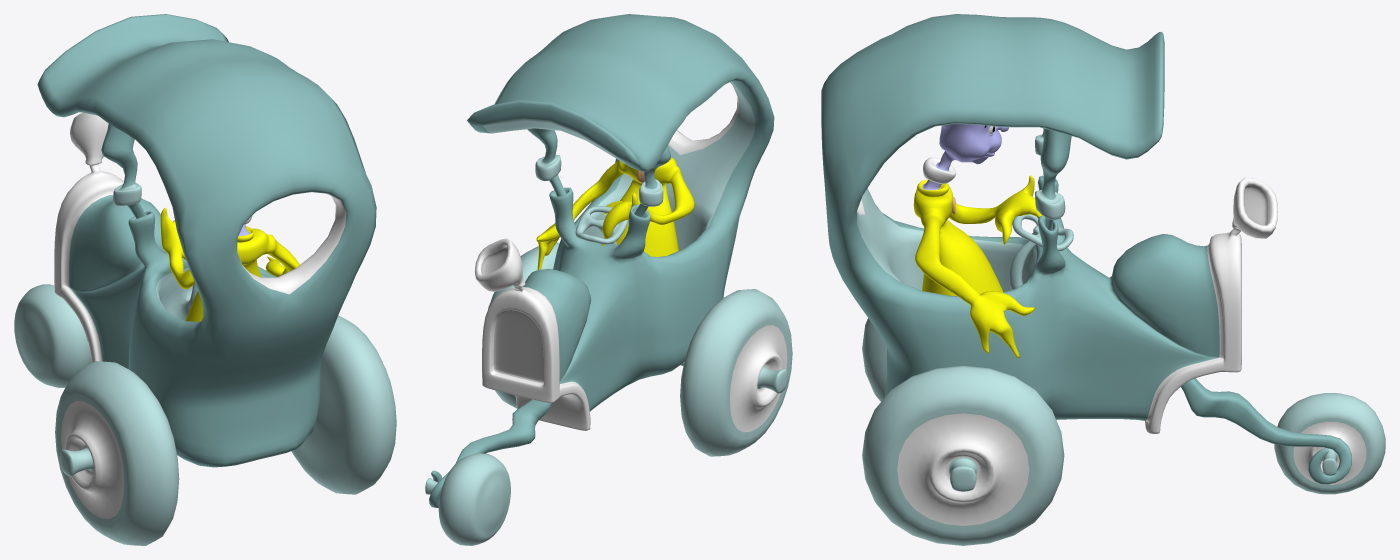
The model's file is Carboy.gltf.
3 views of the same model, side by side, from view 1: azimuth 30°, elevation 25°; view 2: azimuth 150°, elevation 25°; view 3: azimuth 270°, elevation 25° (orthographic). The views are drawn at different scales.
Size of the model in its own units: 8.12 by 10.69 by 11.83.
